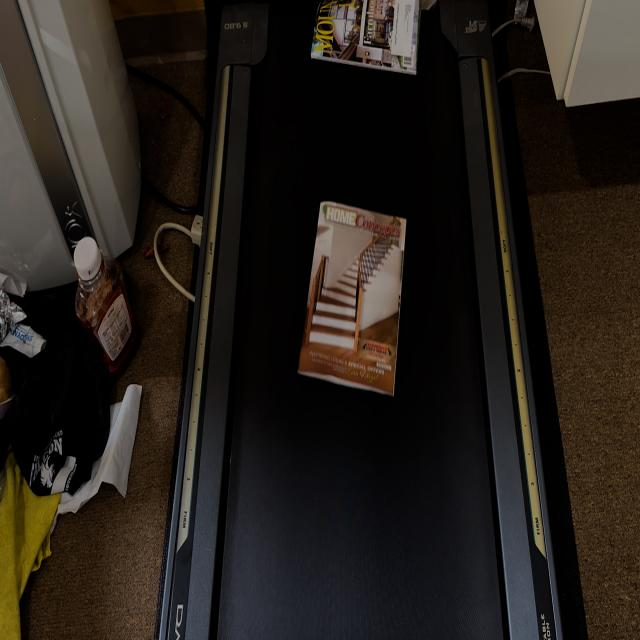Recycle: (296, 200, 408, 400), (307, 1, 420, 79)
